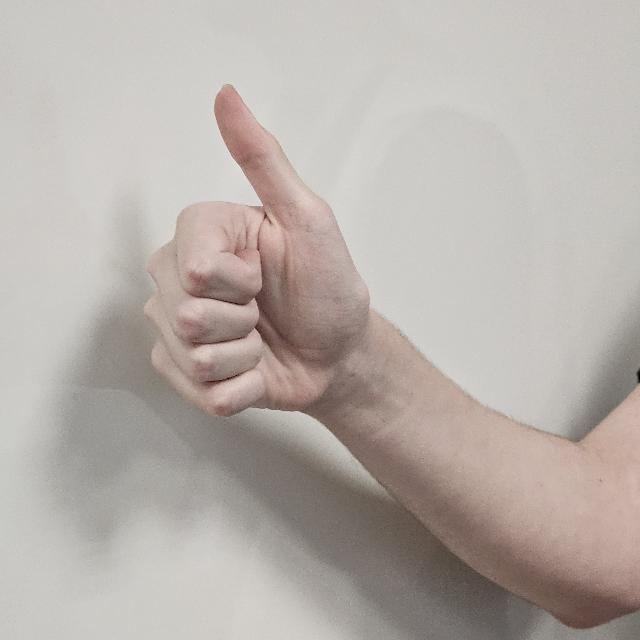Start: (140, 71, 394, 485)
